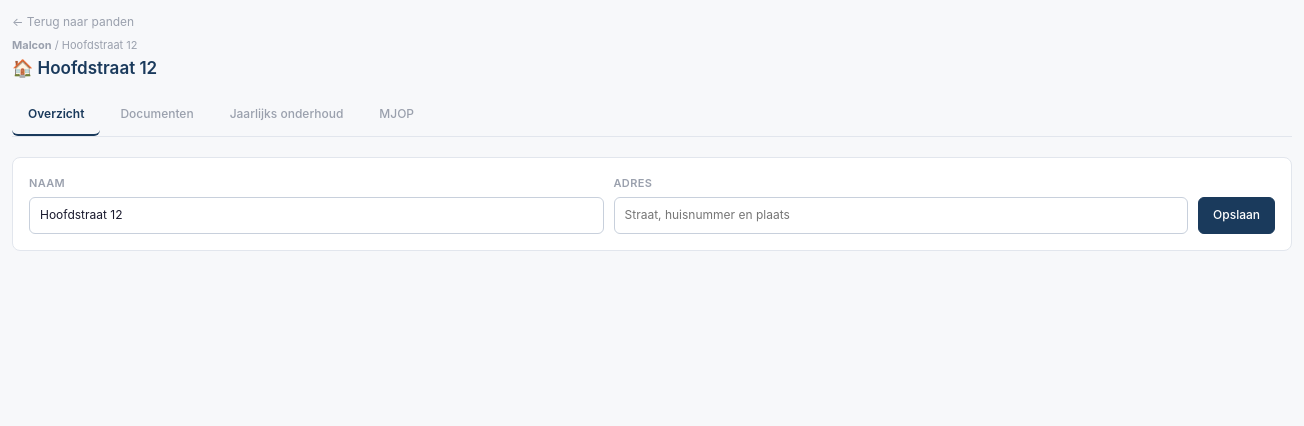
Test case: PandDetailPage › wisselt van tabblad bij klikken
Click the button "Documenten" at (157, 115), box x1=104 y1=94 x2=210 y2=136
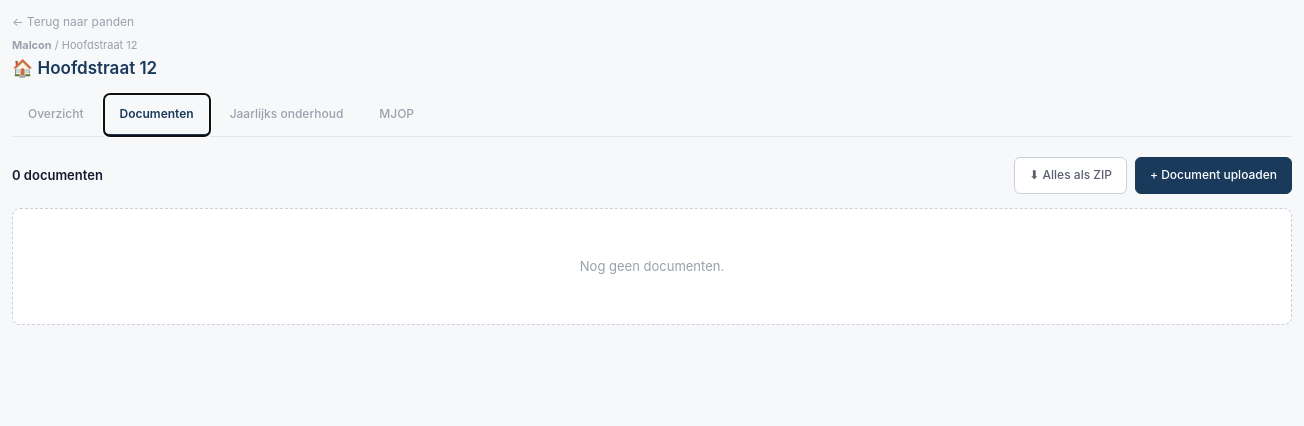
Expected: the text "Nog geen documenten." is shown, x1=580 y1=258 x2=724 y2=274
Click the button "Jaarlijks onderhoud" at (286, 115), box x1=214 y1=94 x2=359 y2=136
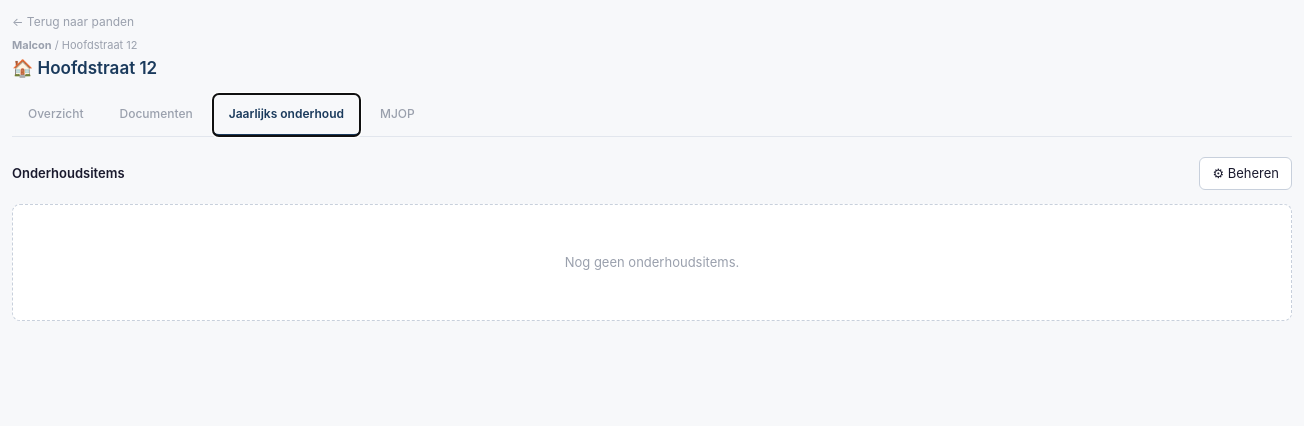
Expected: the text "Nog geen onderhoudsitems." is shown, x1=565 y1=254 x2=739 y2=270
Click the button "MJOP" at (397, 115), box x1=364 y1=94 x2=431 y2=136
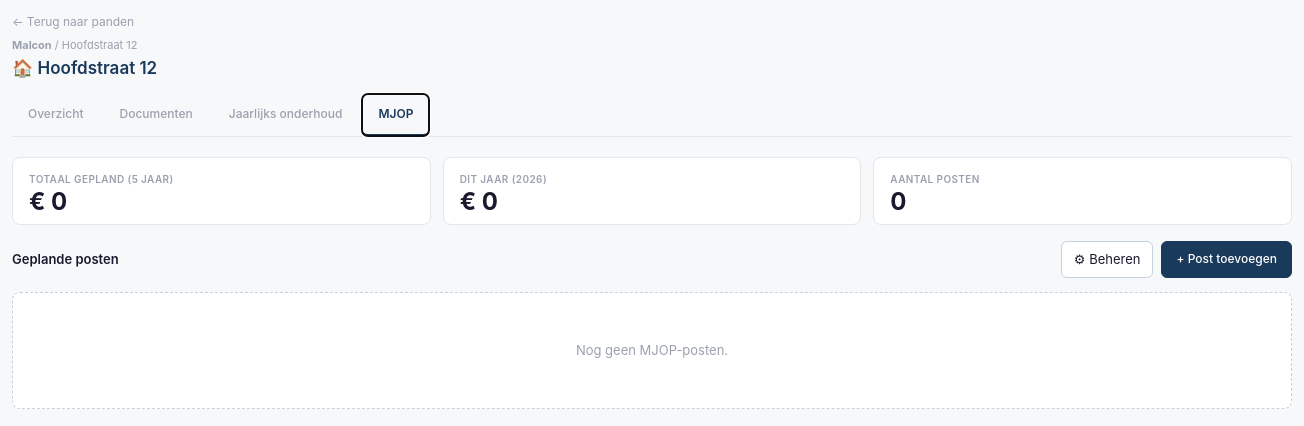
Expected: the text "Nog geen MJOP-posten." is shown, x1=576 y1=342 x2=728 y2=358
